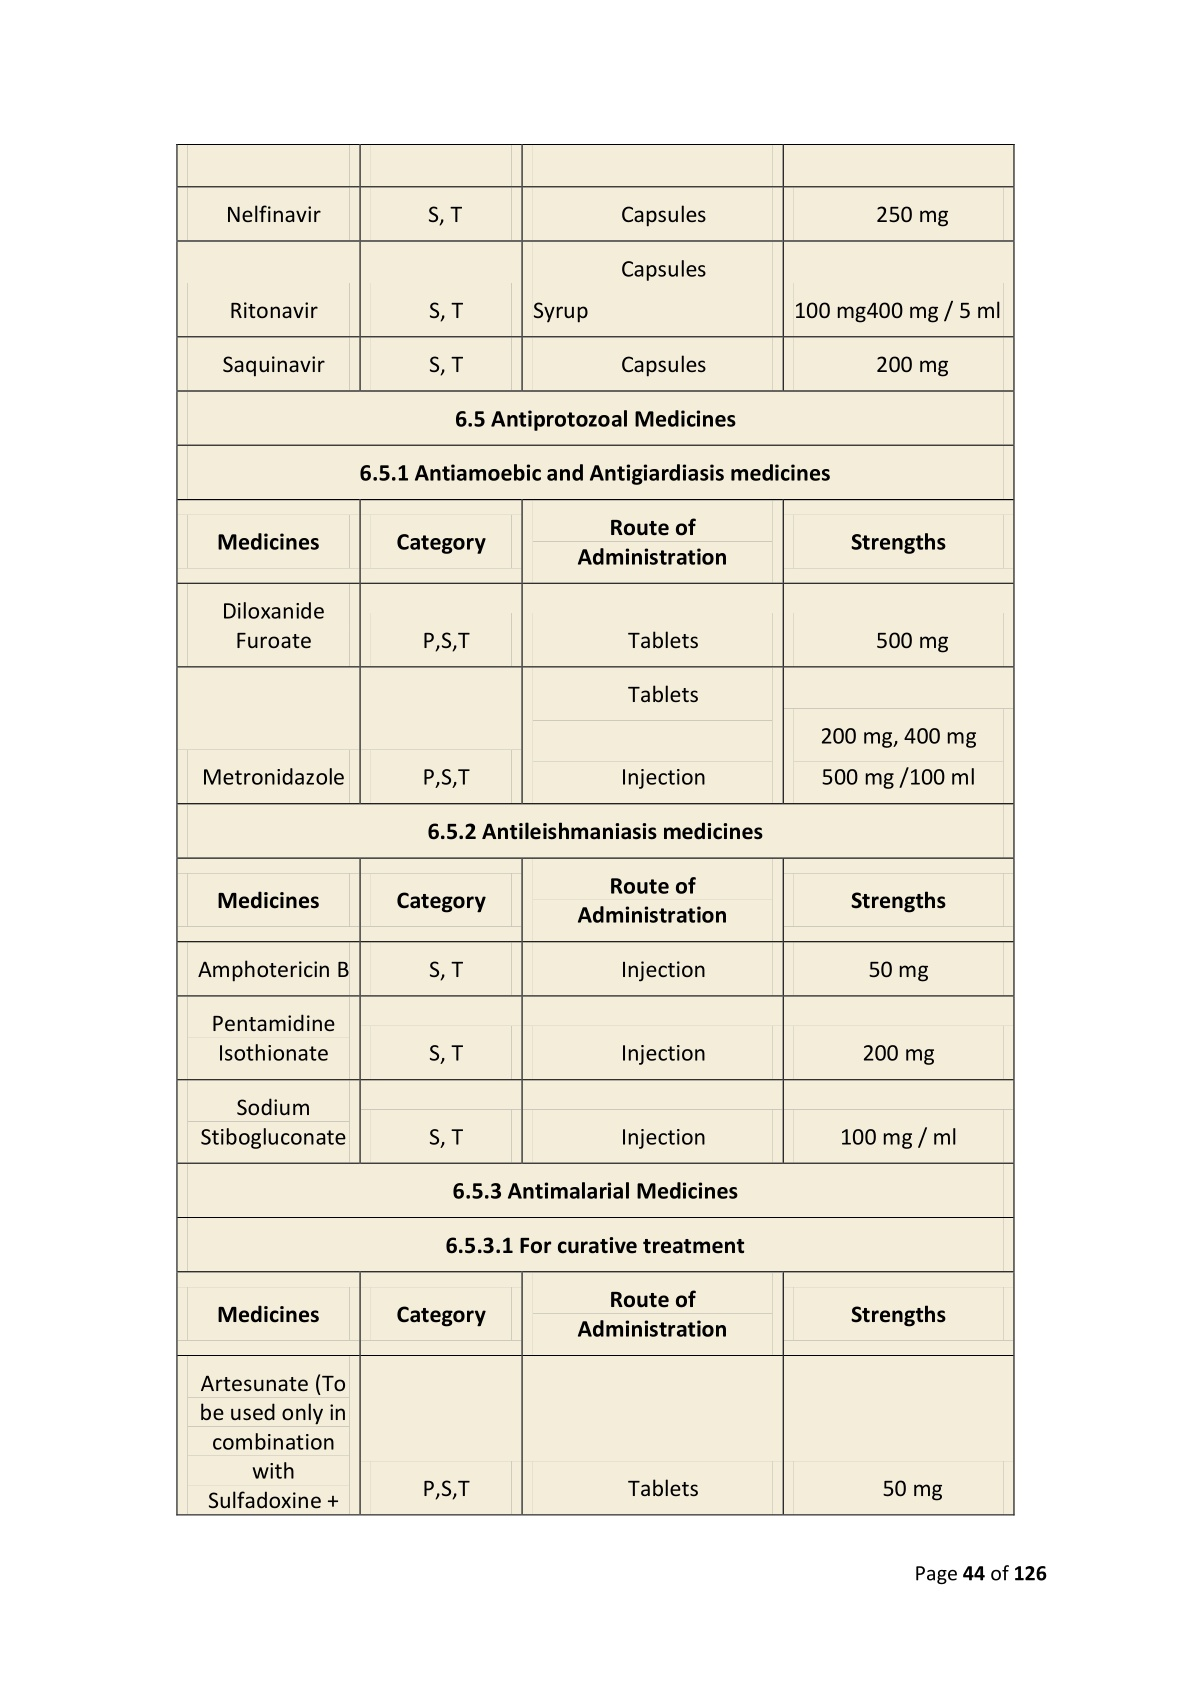merged_cells: (174, 143, 1016, 1517)
